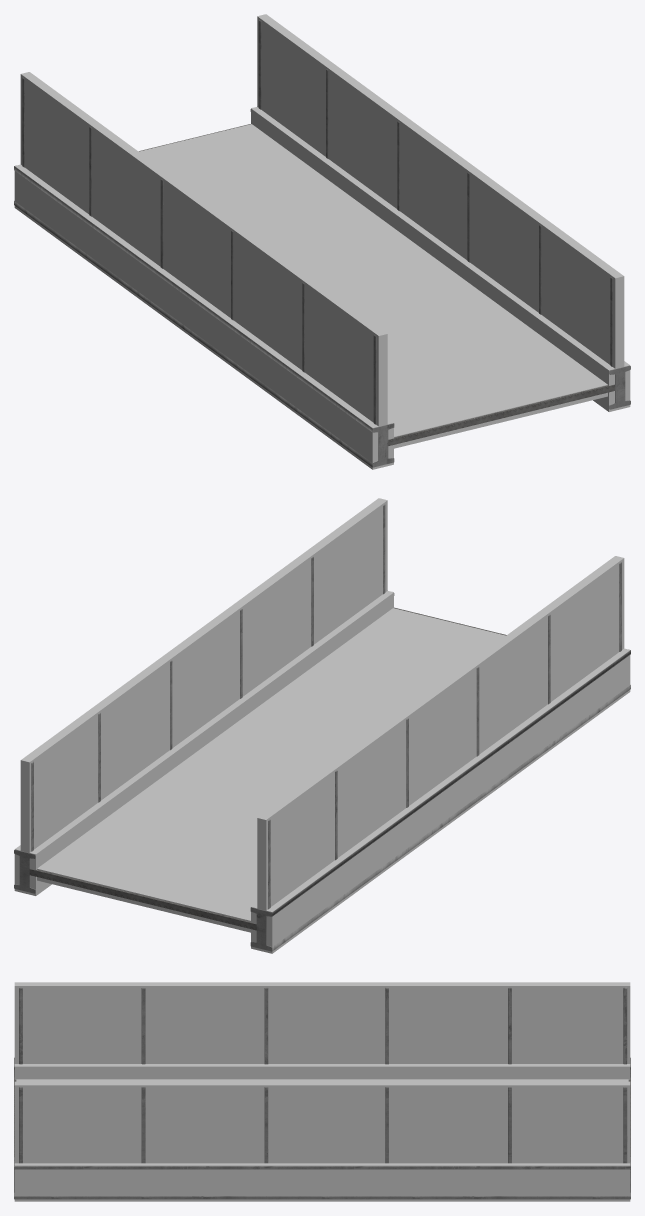
File: SM_Arc_StairsModular_AB_V3.fbx
3 renders of one model, top to bottom at view 1: azimuth 30°, elevation 25°; view 2: azimuth 150°, elevation 25°; view 3: azimuth 270°, elevation 25°, orthographic. The views are drawn at different scales.
Visible parts, largest first — view 1: SM_Arc_StairsModular_AB_V3_ConvexHulls, SM_Arc_StairsModular_AB_V3; view 2: SM_Arc_StairsModular_AB_V3_ConvexHulls, SM_Arc_StairsModular_AB_V3; view 3: SM_Arc_StairsModular_AB_V3_ConvexHulls, SM_Arc_StairsModular_AB_V3.
Part boxes in pixels (box(x1,y1,x2,y2)): SM_Arc_StairsModular_AB_V3_ConvexHulls: box(14, 14, 630, 469); SM_Arc_StairsModular_AB_V3: box(14, 20, 630, 467); SM_Arc_StairsModular_AB_V3_ConvexHulls: box(14, 498, 630, 953); SM_Arc_StairsModular_AB_V3: box(14, 504, 630, 951); SM_Arc_StairsModular_AB_V3_ConvexHulls: box(14, 982, 630, 1201); SM_Arc_StairsModular_AB_V3: box(14, 987, 630, 1199).
Size of the model in its own units: 266 by 639 by 130.
3 materials, 2 textured.
